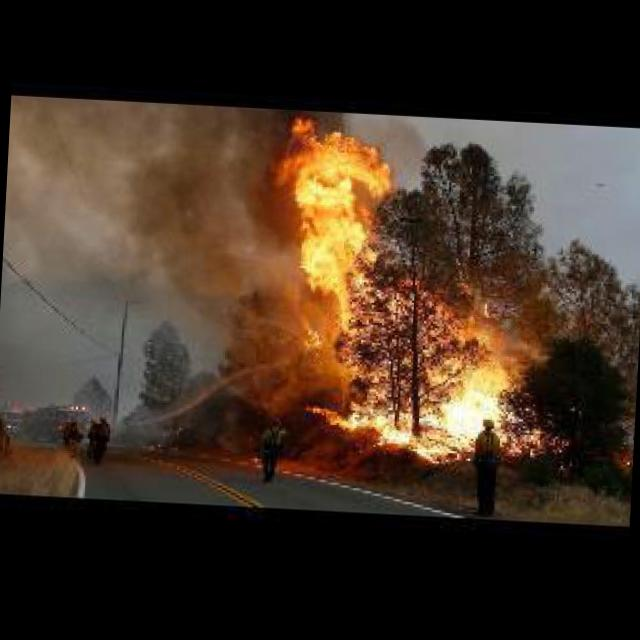fire: (267, 112, 548, 462)
